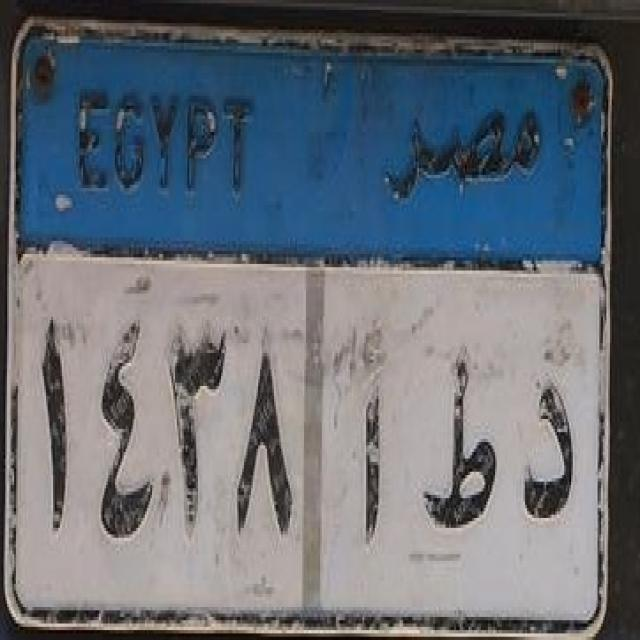1: (26, 314, 86, 554)
3: (160, 300, 237, 558)
4: (89, 294, 161, 554)
8: (236, 324, 312, 558)
Taa: (412, 344, 512, 546)
alef: (337, 312, 402, 564)
daal: (516, 353, 582, 538)
